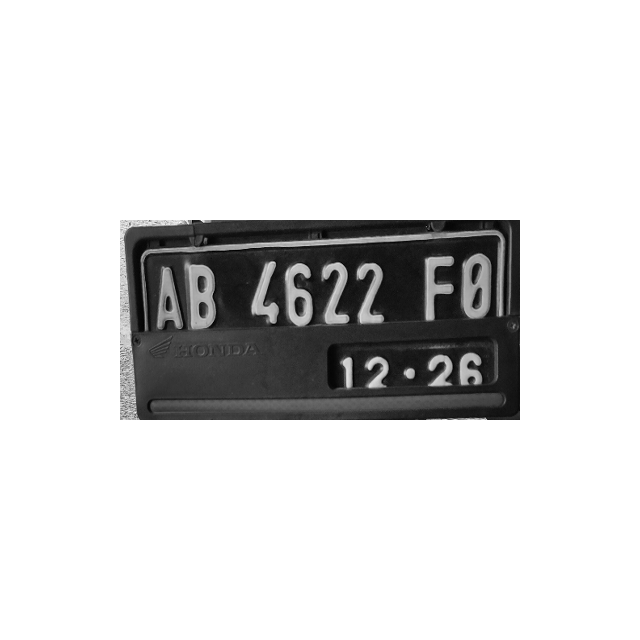contain: (456, 247, 494, 318), (419, 250, 455, 323), (151, 263, 187, 332), (318, 259, 354, 328), (245, 258, 281, 326), (282, 260, 317, 329), (353, 258, 388, 327), (183, 262, 218, 330)
